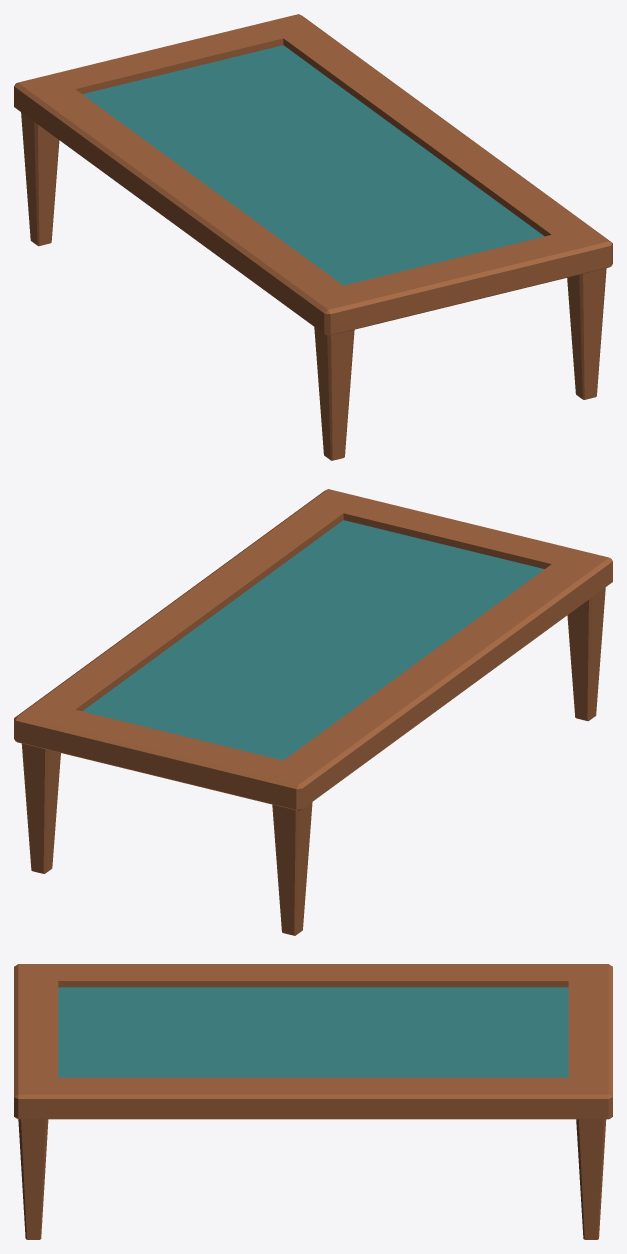
The model's file is table_glass.gltf.
3 views of the same model, one above another, from view 1: azimuth 30°, elevation 25°; view 2: azimuth 150°, elevation 25°; view 3: azimuth 270°, elevation 25° (orthographic). The views are drawn at different scales.
Visible parts, largest first — view 1: Table C; view 2: Table C; view 3: Table C.
Boxes of the visible parts, x1=… form: Table C: x1=14, y1=14, x2=612, y2=460; Table C: x1=14, y1=489, x2=612, y2=935; Table C: x1=14, y1=964, x2=612, y2=1239.
Size of the model in its own units: 3.56 by 1.85 by 6.73.
